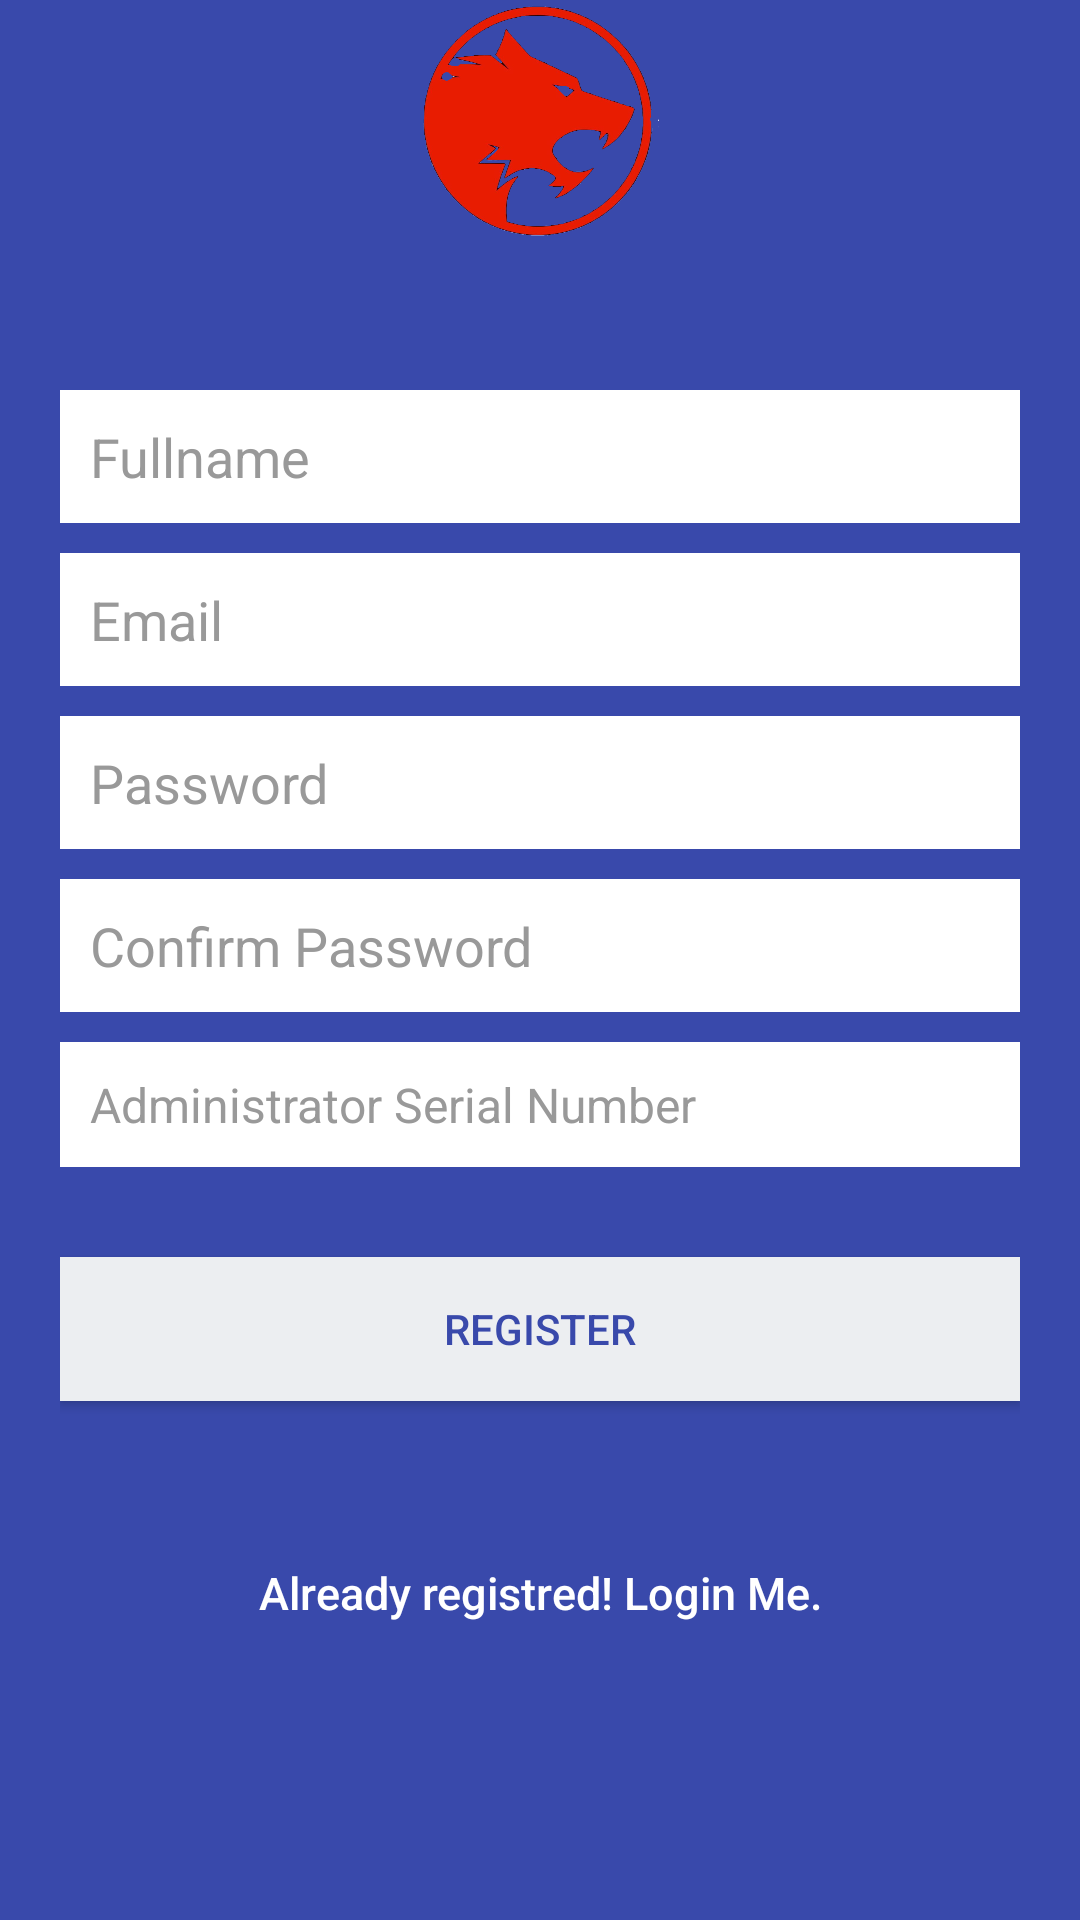

Icon bounding boxes for this 1080x1920 phone screenshot, format (x1, y1, x2, y2):
wolfquiz: (424, 6, 659, 236)
